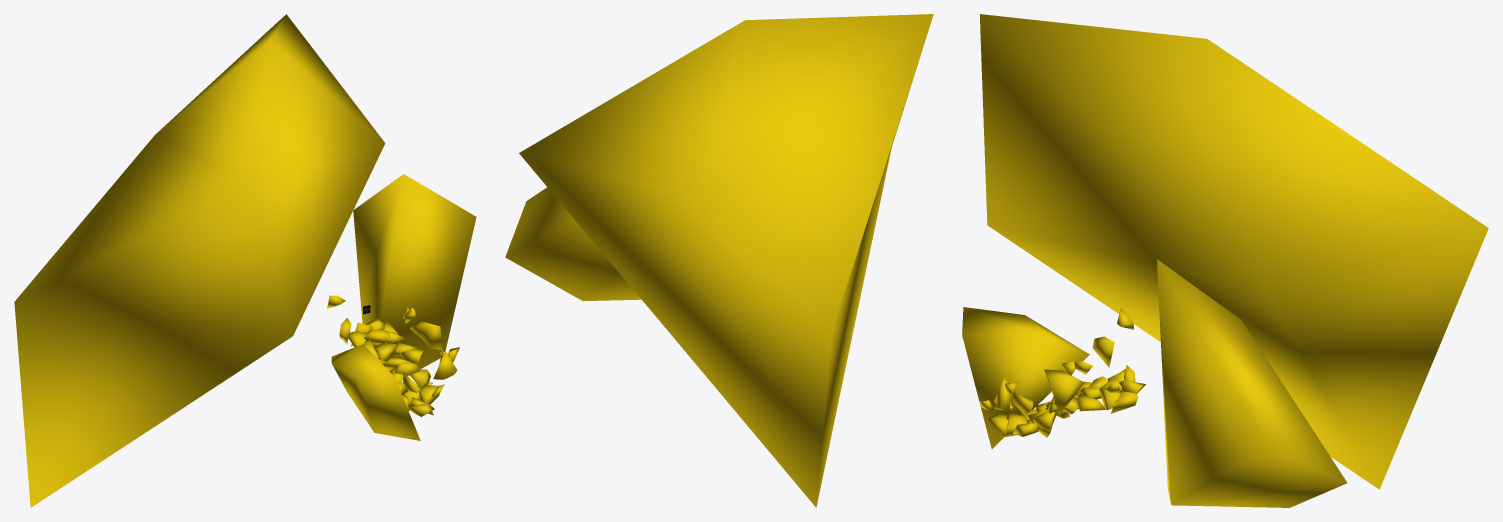
3 renders of one model, left to right at view 1: azimuth 30°, elevation 25°; view 2: azimuth 150°, elevation 25°; view 3: azimuth 270°, elevation 25°, orthographic. The views are drawn at different scales.
Visible parts, largest first — view 1: fragment.074, fragment.073, fragment.068, fragment.065; view 2: fragment.074, fragment.073; view 3: fragment.074, fragment.073, fragment.068, fragment.065.
Boxes of the visible parts, x1,y1,x2,y2 form: fragment.074: (14, 14, 385, 507); fragment.073: (353, 174, 476, 376); fragment.068: (331, 344, 420, 440); fragment.065: (409, 321, 442, 350); fragment.074: (519, 14, 933, 507); fragment.073: (505, 187, 641, 301); fragment.074: (979, 14, 1488, 489); fragment.073: (1157, 259, 1347, 507); fragment.068: (962, 307, 1089, 448); fragment.065: (1044, 369, 1084, 415).
Bounding box in the file's own units: 4301 × 4823 × 4271.
